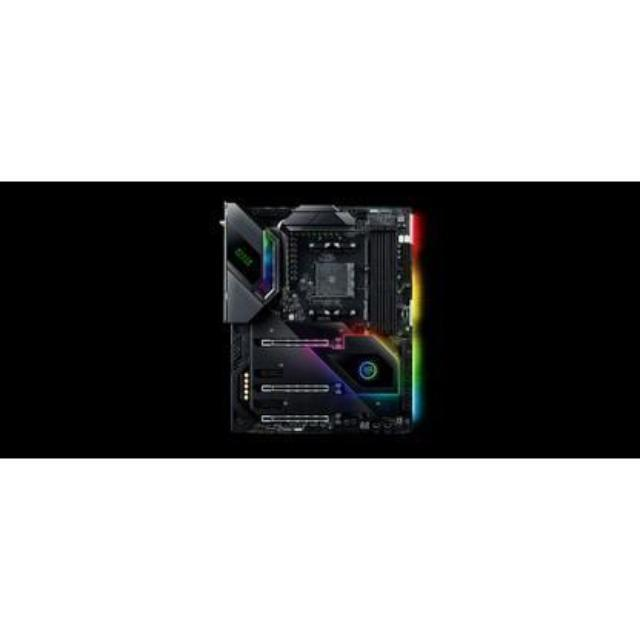Mainboard: (208, 197, 430, 445)
